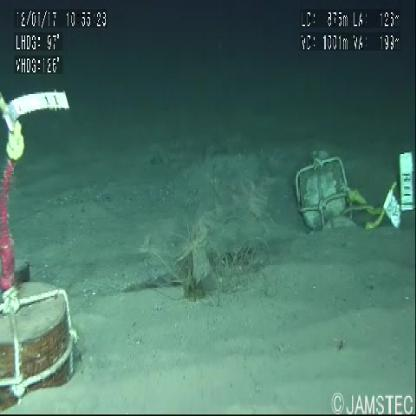Rác: (123, 101, 287, 348)
